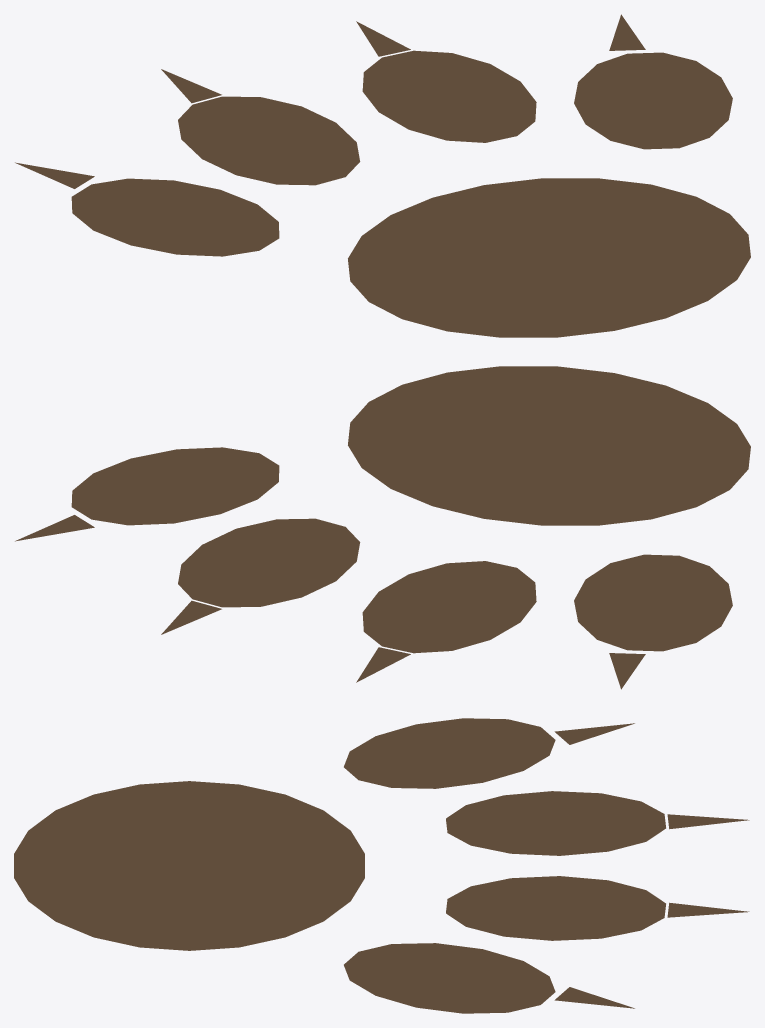
The model's file is Jackal_Print_2D.fbx.
The picture shows the model from 3 angles, top to bottom: view 1: azimuth 30°, elevation 25°; view 2: azimuth 150°, elevation 25°; view 3: azimuth 270°, elevation 25°; orthographic projection. The views are drawn at different scales.
Visible parts, largest first — view 1: Jackal_Print_2D; view 2: Jackal_Print_2D; view 3: Jackal_Print_2D.
Boxes of the visible parts, x1,y1,x2,y2 form: Jackal_Print_2D: (15, 14, 750, 337); Jackal_Print_2D: (15, 366, 750, 689); Jackal_Print_2D: (14, 718, 749, 1013).
Bounding box in the file's own units: 0.0591 × 1.02e-08 × 0.0623.
